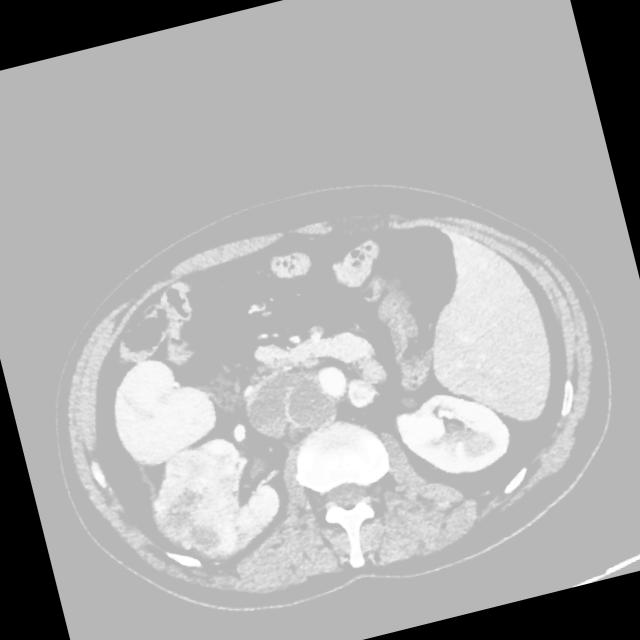TUMOR: (108, 181, 596, 583)
